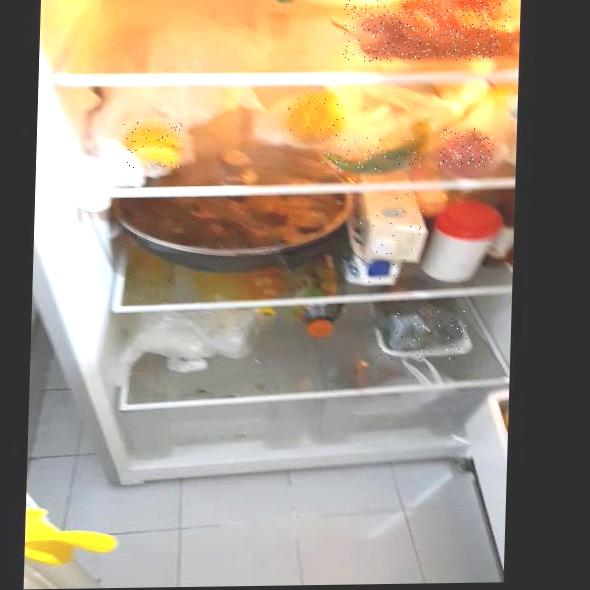broccoli: (378, 310, 473, 361)
carrot: (342, 0, 512, 62)
green chilies: (321, 137, 422, 173)
lemon: (122, 119, 184, 168), (285, 97, 345, 141)
milk: (351, 192, 424, 283)
tomato: (439, 128, 498, 167)
